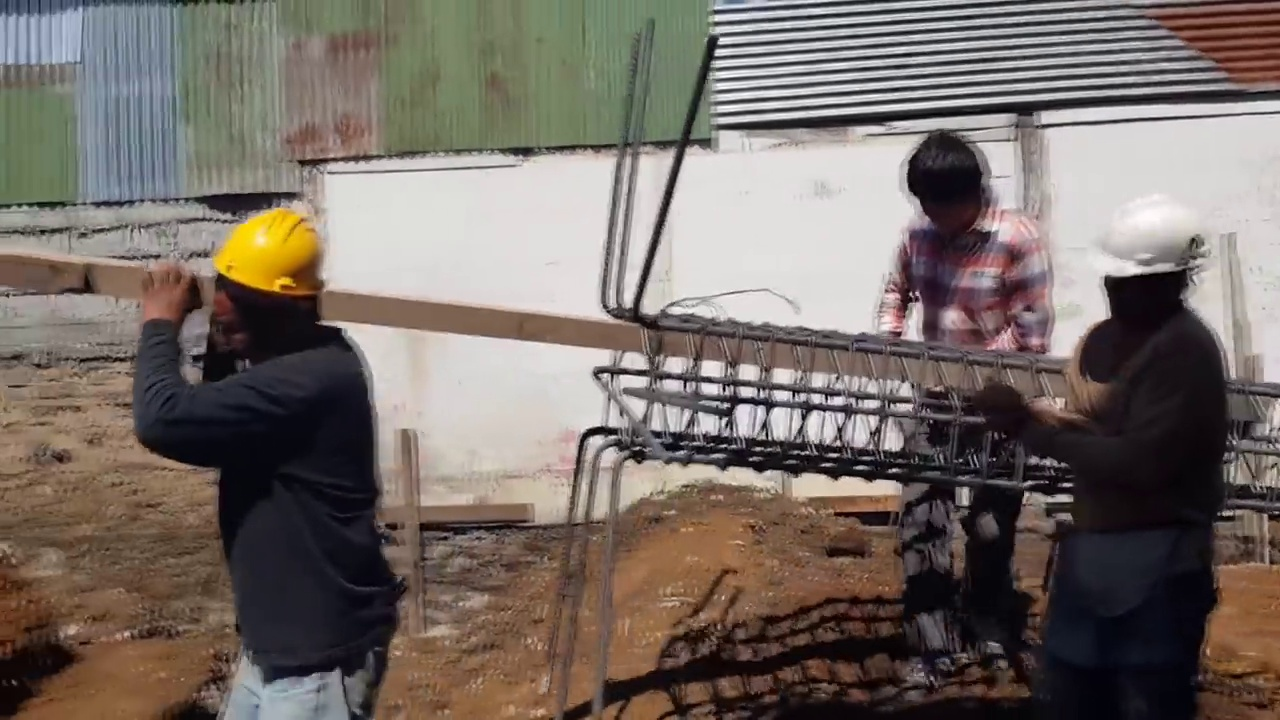helmet: (1088, 183, 1212, 296), (200, 210, 319, 301)
helmet-off: (901, 131, 989, 244)
helmet-on: (198, 202, 324, 368), (1090, 182, 1215, 338)
person: (90, 201, 403, 720), (976, 189, 1231, 720), (875, 136, 1056, 658)
